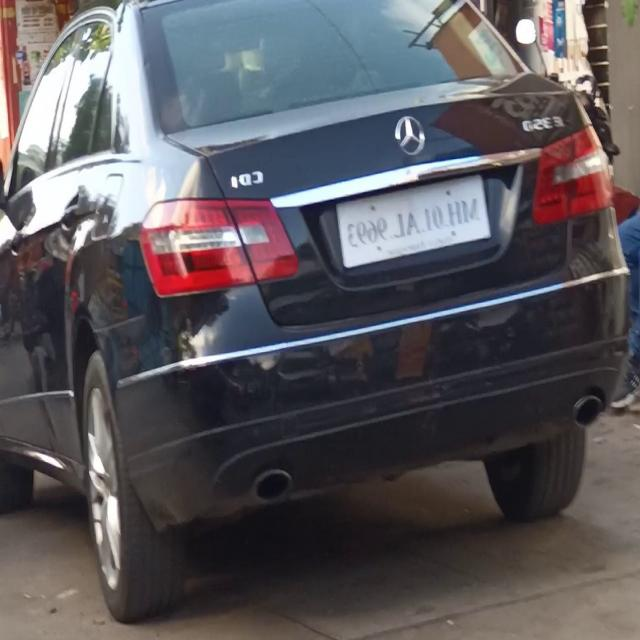license_plate: (334, 157, 496, 278)
